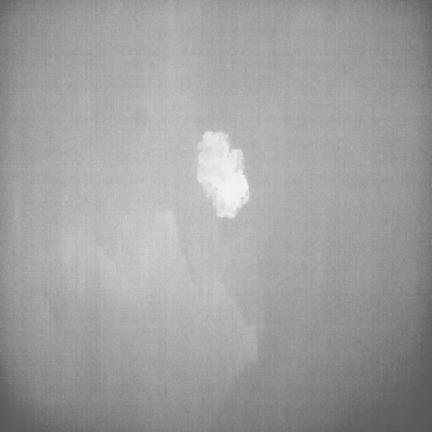flukeprints: (197, 132, 248, 218)
